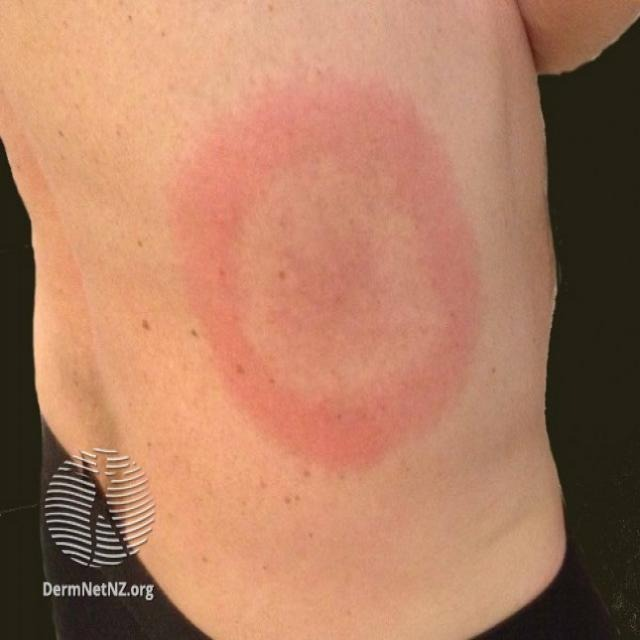Ringworm: (145, 53, 507, 487)
